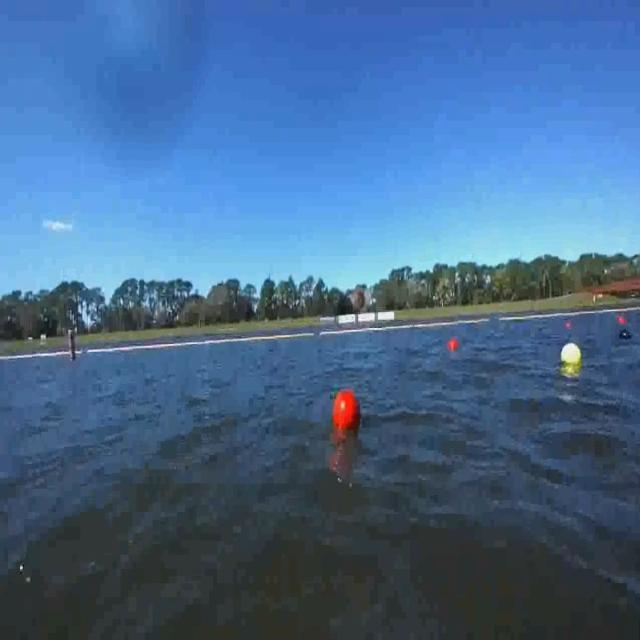black-buoy: (620, 328, 632, 339)
red-buoy: (335, 391, 361, 434), (447, 341, 457, 354)
yellow-buoy: (562, 344, 582, 366)
